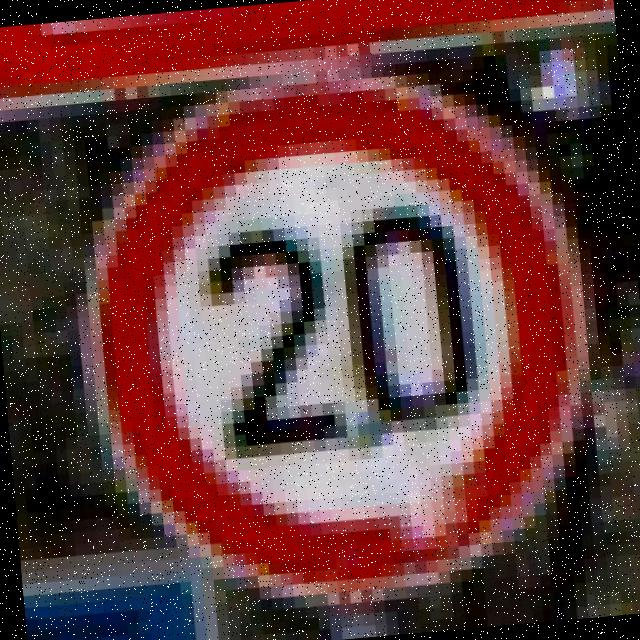Ograniczenie predkosci do 20: (65, 54, 612, 622)
